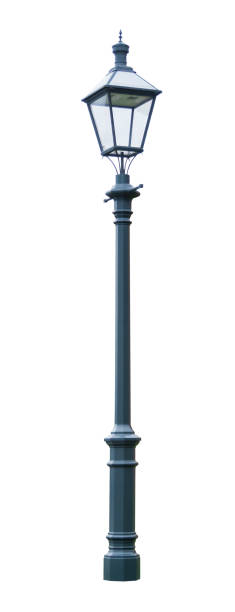light_pole: (100, 184, 140, 577)
